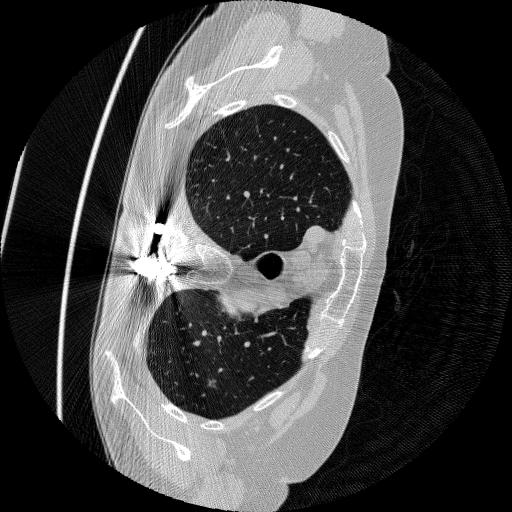nodule: (206, 375, 222, 391)
